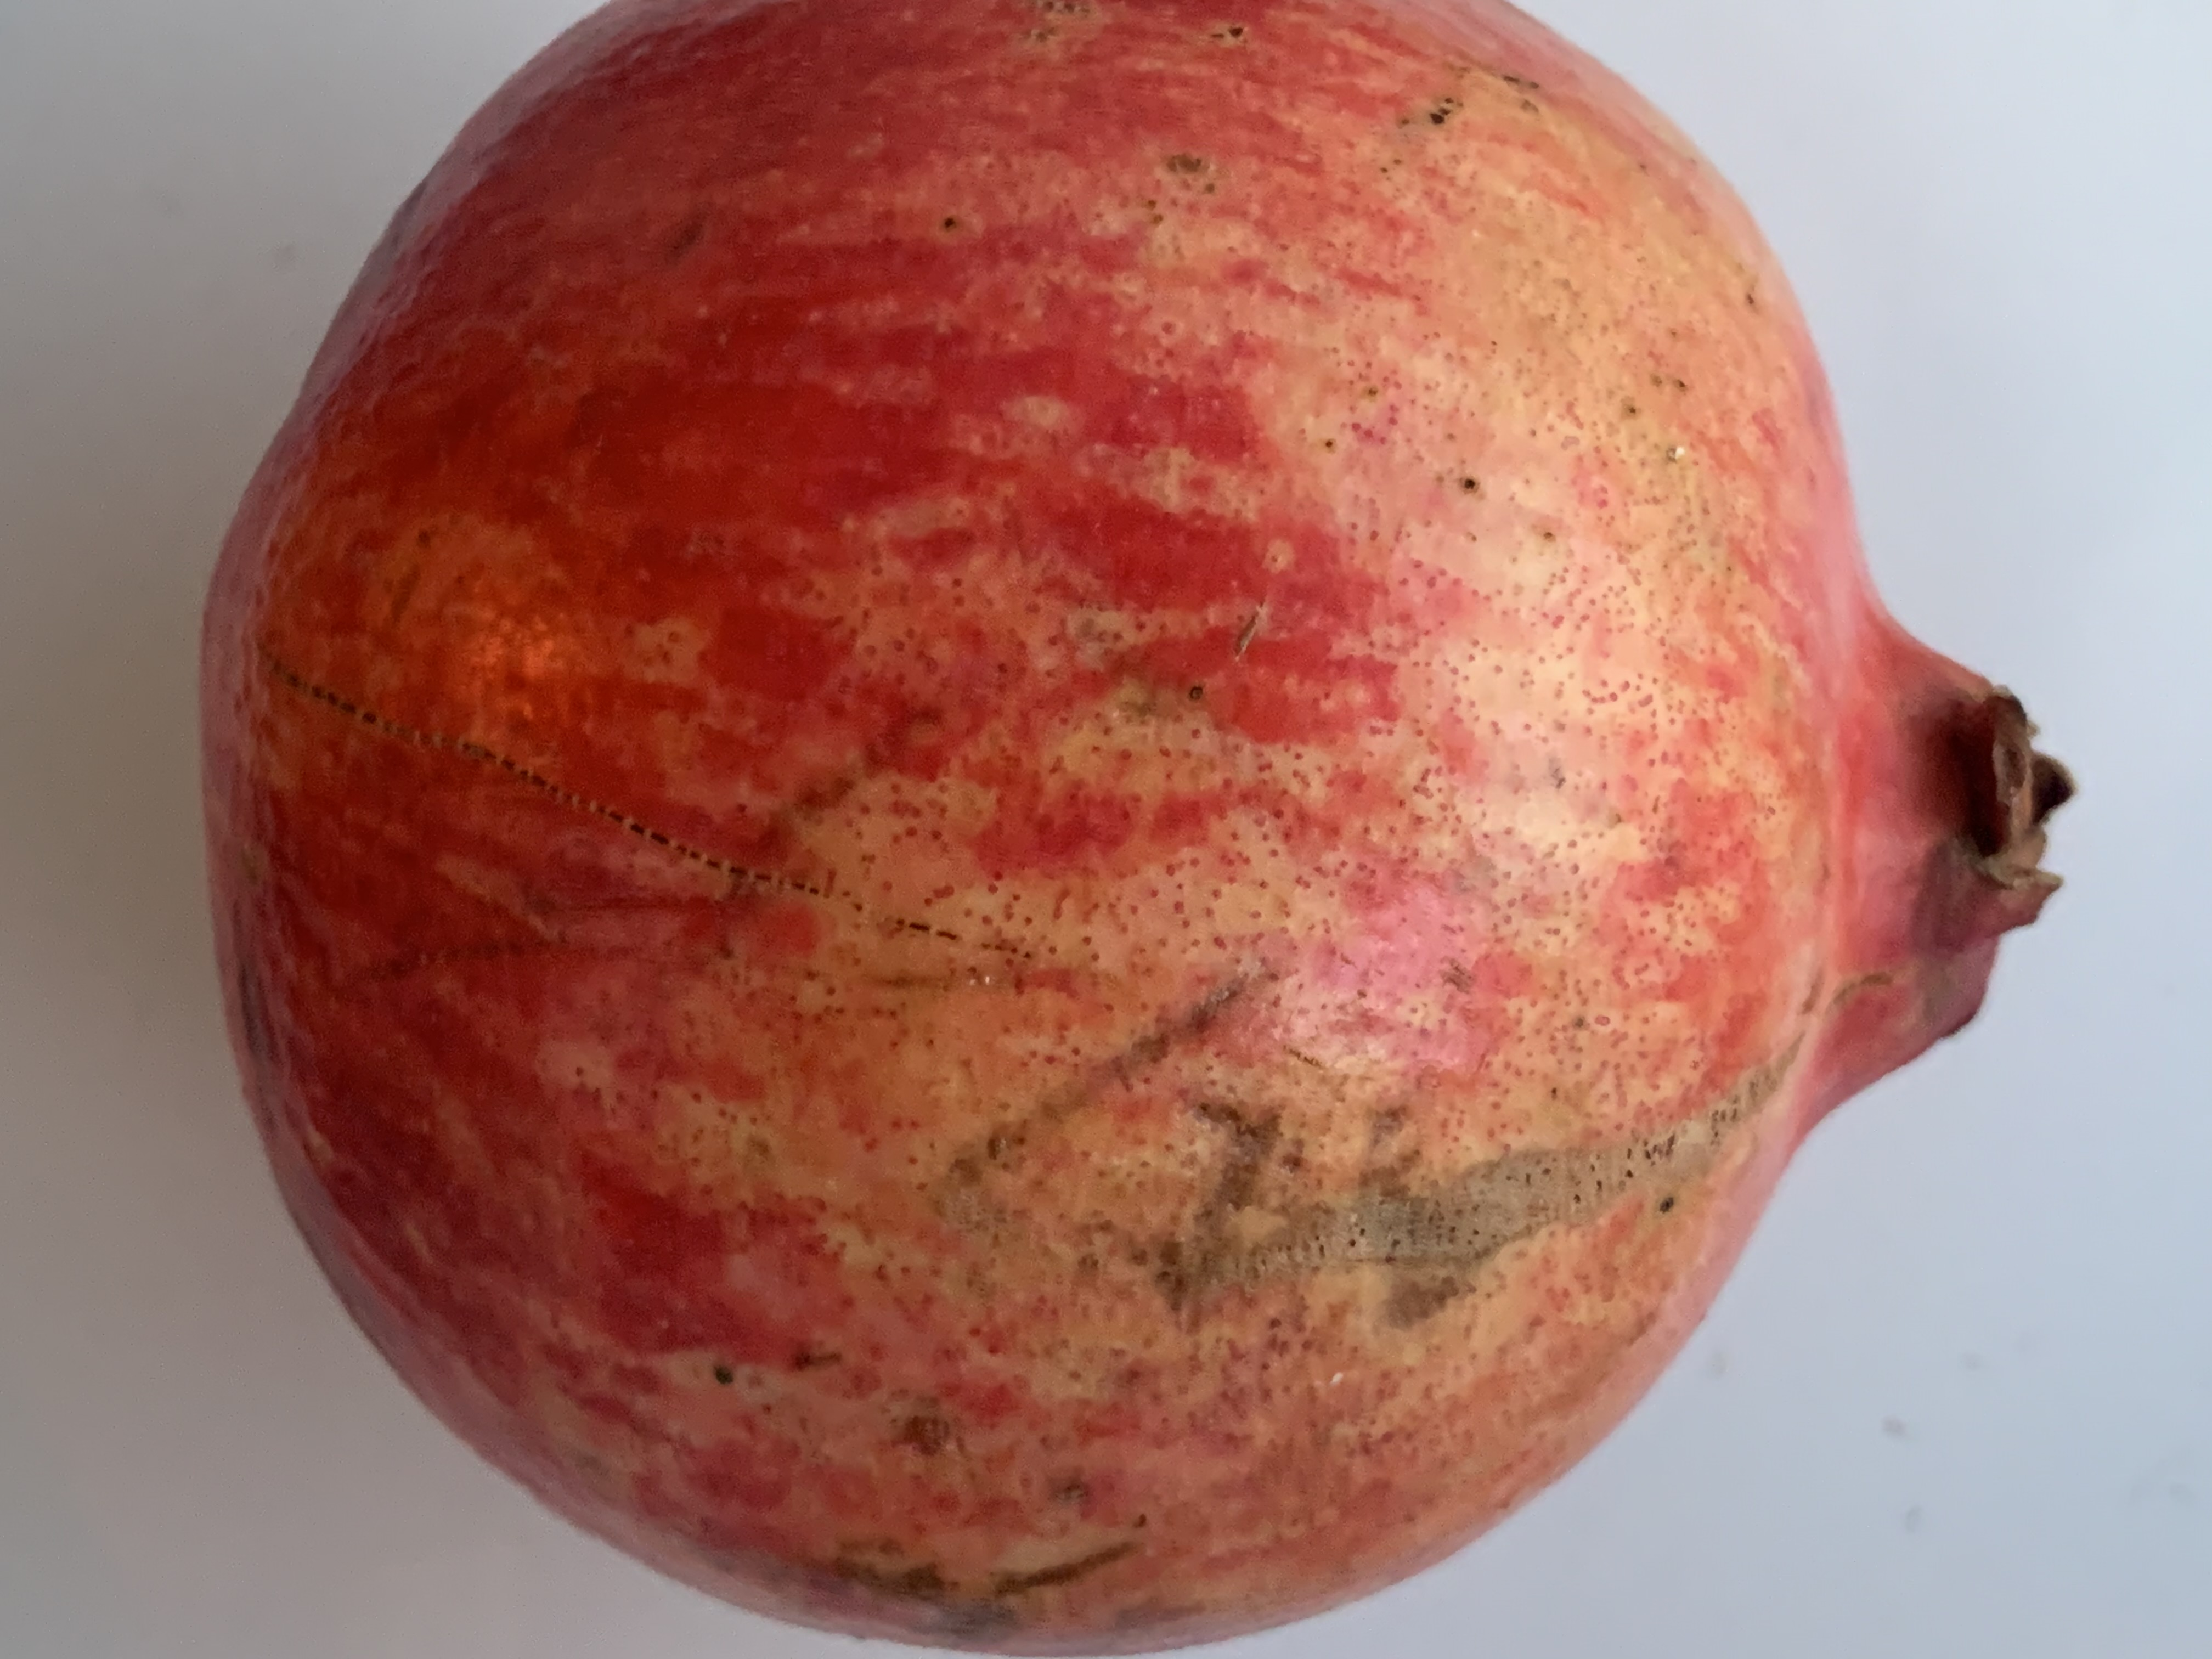Pomegranate: (195, 19, 2080, 1659)
